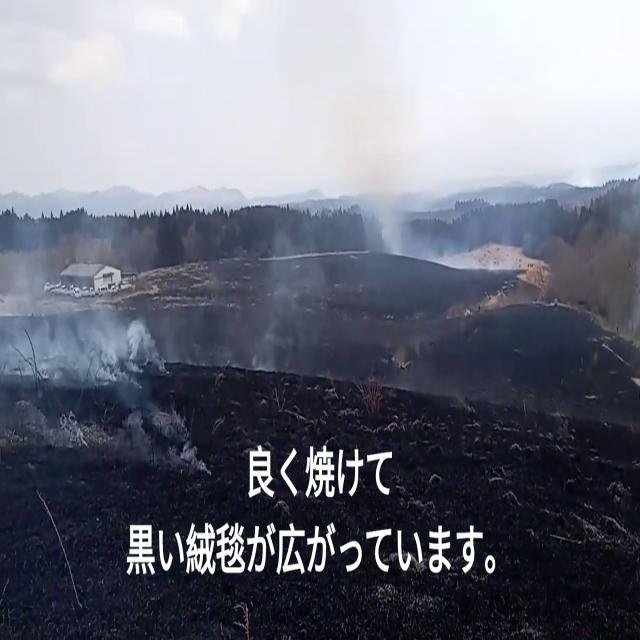Smoke: (0, 239, 162, 389), (358, 179, 455, 261)
